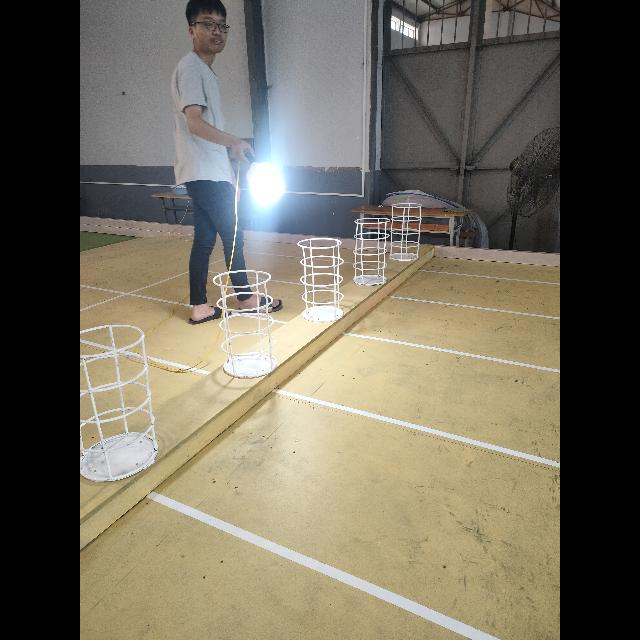S: (80, 326, 160, 482), (212, 269, 278, 379), (296, 236, 344, 322), (354, 216, 392, 286), (390, 202, 422, 262)
